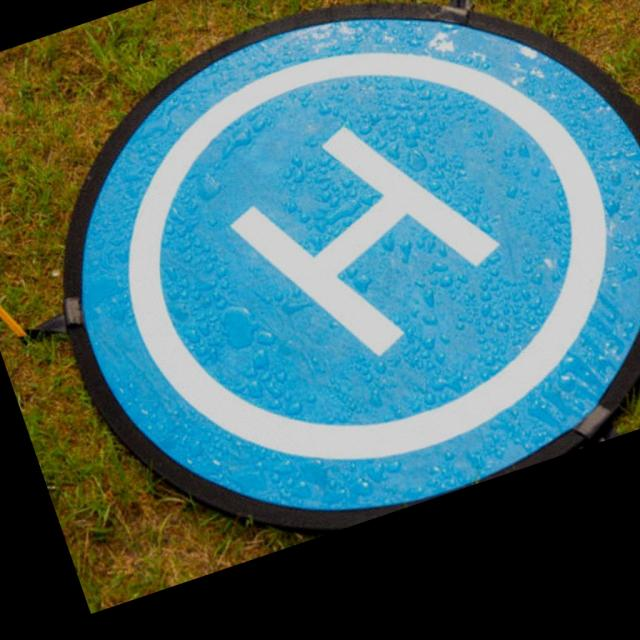helipad: (122, 49, 610, 465)
